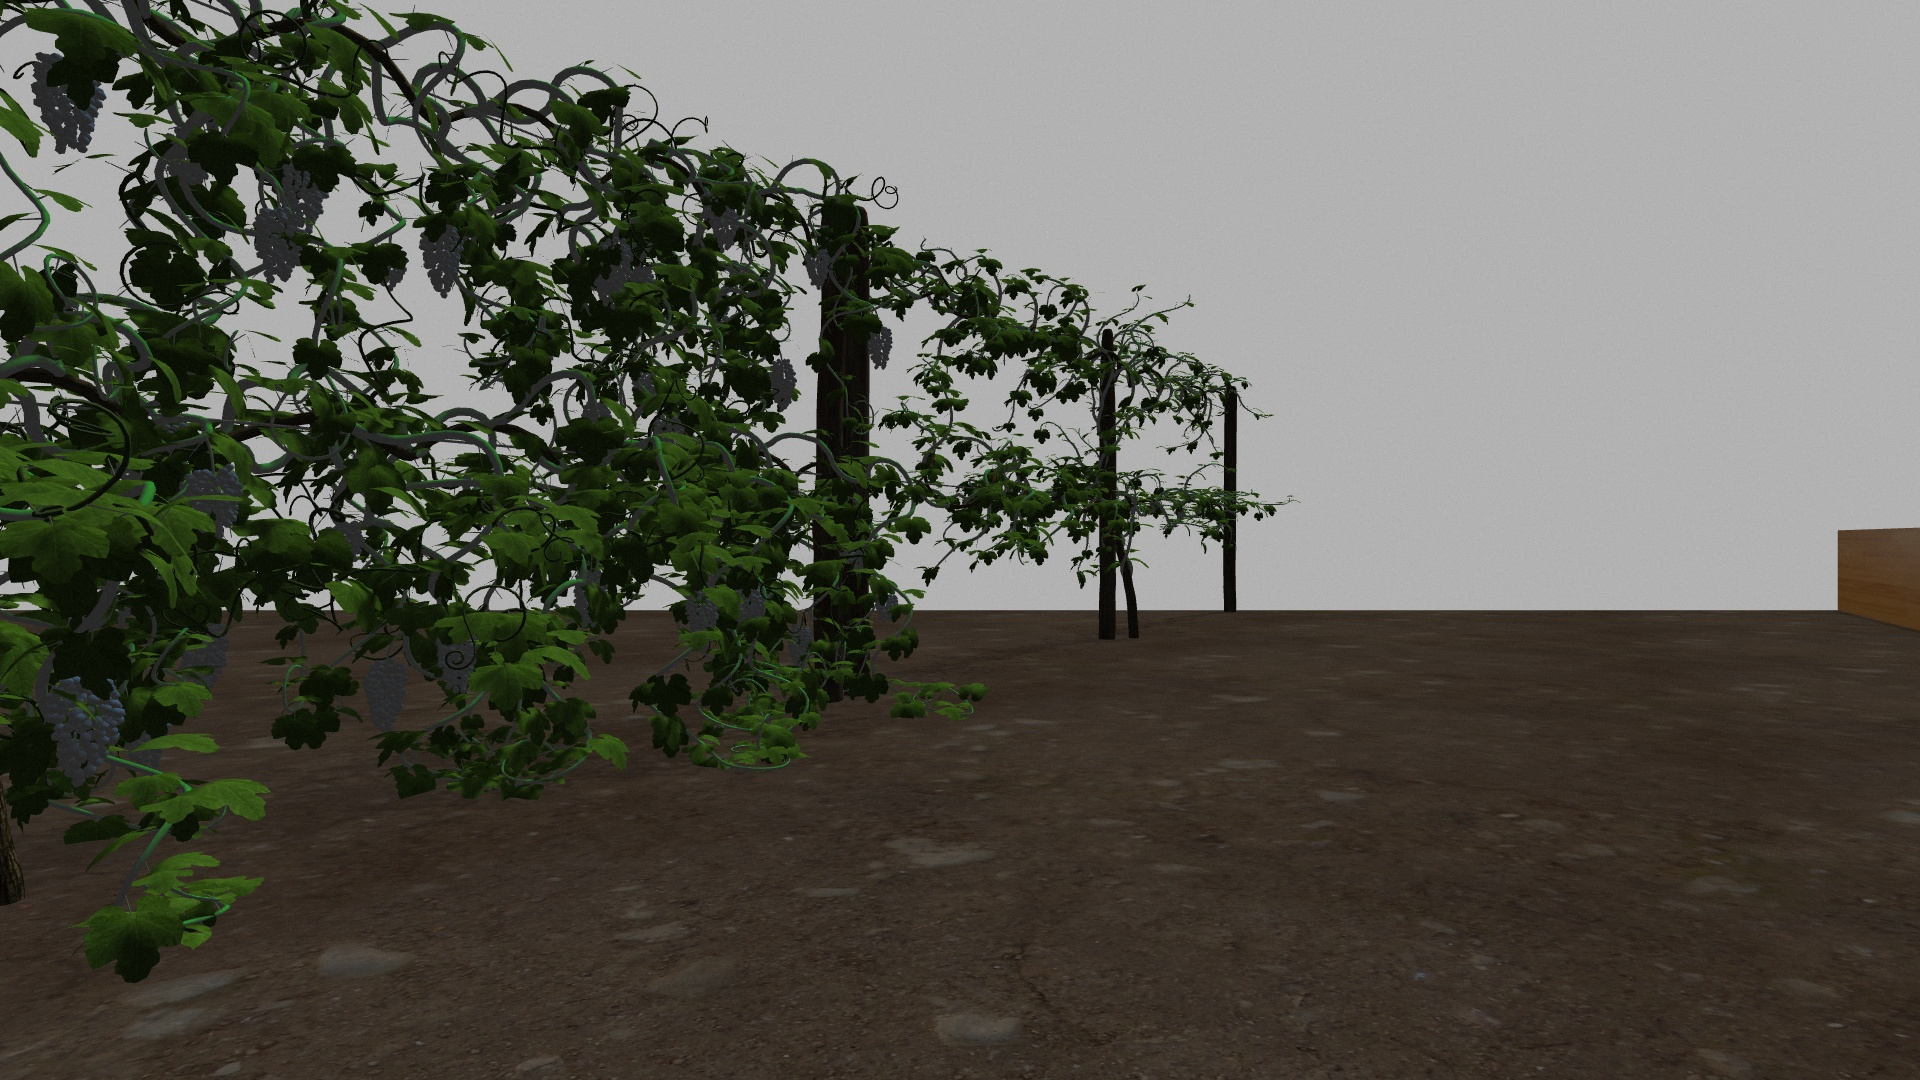grape: (44, 675, 127, 787), (30, 53, 105, 154), (251, 208, 305, 284), (417, 223, 465, 297), (185, 465, 243, 526), (363, 659, 409, 728), (183, 625, 231, 687), (280, 164, 324, 225), (436, 634, 477, 696), (597, 239, 632, 305), (770, 359, 798, 413), (684, 595, 720, 632), (711, 206, 740, 248), (869, 324, 894, 371), (804, 247, 829, 289), (789, 625, 814, 666), (876, 595, 901, 621)
